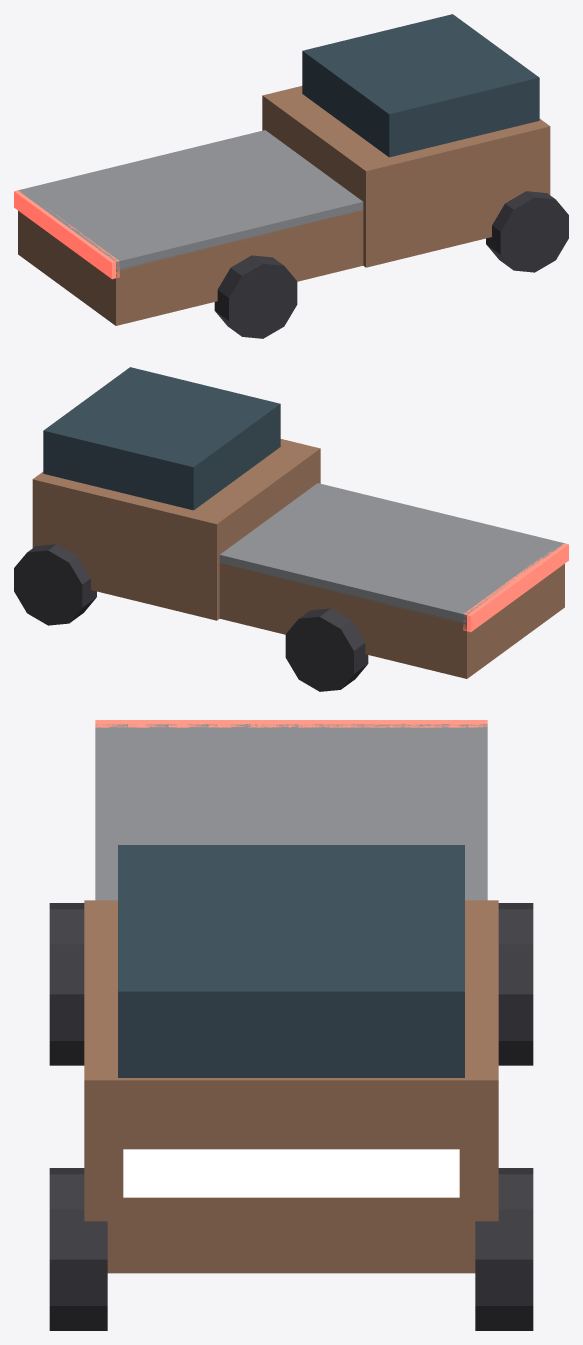
The model's file is vehicle_pickup.glb.
3 renders of one model, top to bottom at view 1: azimuth 30°, elevation 25°; view 2: azimuth 150°, elevation 25°; view 3: azimuth 270°, elevation 25°, orthographic. The views are drawn at different scales.
Visible parts, largest first — view 1: Cube.003, Cube, Cube.001, Cube.002, Cylinder.001, Cylinder, Cube.005; view 2: Cube.003, Cube, Cube.001, Cube.002, Cylinder.003, Cylinder.002, Cube.005; view 3: Cube.001, Cube, Cube.003, Cube.004, Cylinder, Cylinder.002, Cylinder.001, Cylinder.003, Cube.005.
Part boxes in pixels (box(x1,y1,x2,y2)): Cube.003: box(18, 130, 363, 271); Cube: box(262, 86, 550, 267); Cube.001: box(302, 14, 539, 157); Cube.002: box(18, 210, 363, 325); Cylinder.001: box(214, 255, 297, 338); Cylinder: box(486, 191, 568, 272); Cube.005: box(14, 190, 119, 279); Cube.003: box(219, 483, 564, 624); Cube: box(32, 439, 320, 620); Cube.001: box(43, 367, 280, 510); Cube.002: box(219, 563, 564, 678); Cylinder.003: box(285, 608, 368, 691); Cylinder.002: box(14, 544, 96, 625); Cube.005: box(463, 543, 568, 632); Cube.001: box(118, 845, 464, 1077); Cube: box(84, 900, 498, 1273); Cube.003: box(95, 724, 487, 900); Cube.004: box(123, 1149, 459, 1197); Cylinder: box(49, 1168, 107, 1330); Cylinder.002: box(475, 1168, 533, 1330); Cylinder.001: box(49, 903, 84, 1065); Cylinder.003: box(498, 903, 533, 1065); Cube.005: box(95, 720, 487, 727).
Bounding box in the file's own units: 4.59 × 1.75 × 2.16.
